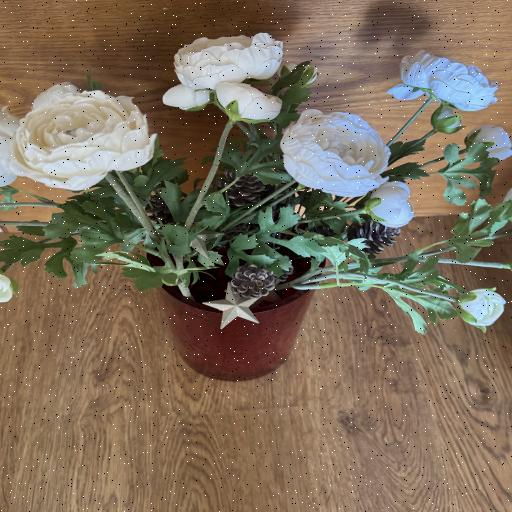Plant Pot: (146, 210, 324, 380)
